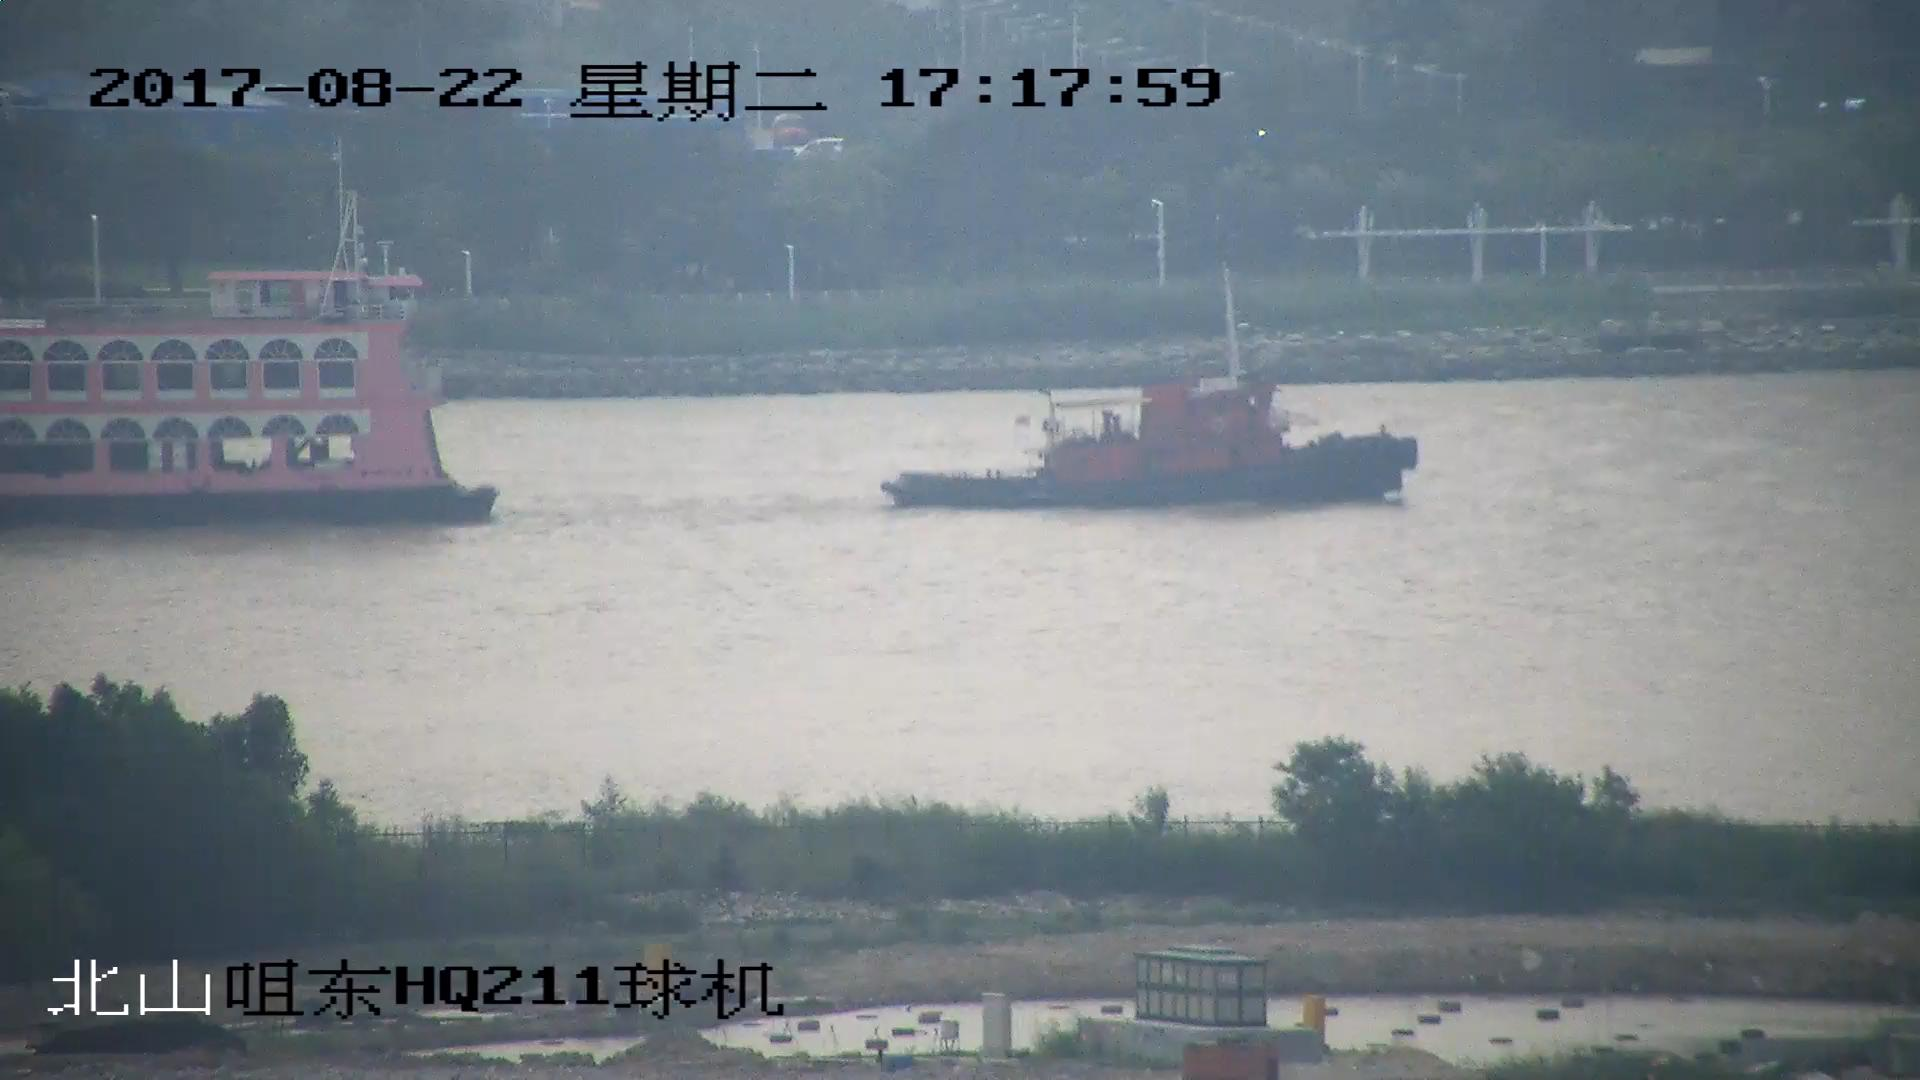fishing boat: (887, 267, 1419, 507)
passenger ship: (1, 140, 499, 527)
